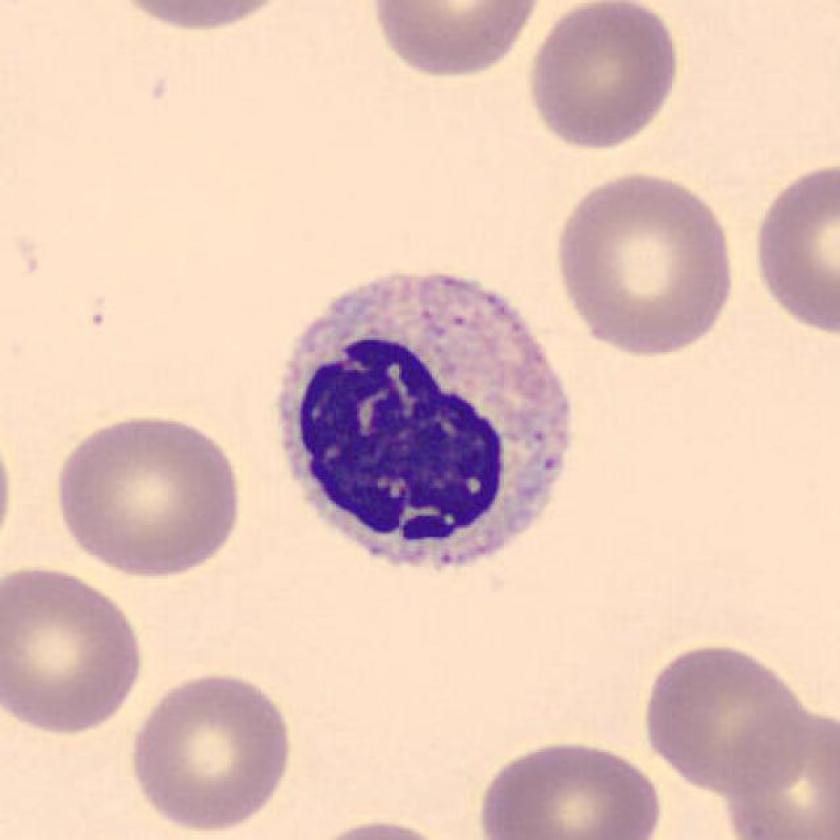neutrophil: (278, 272, 571, 570)
